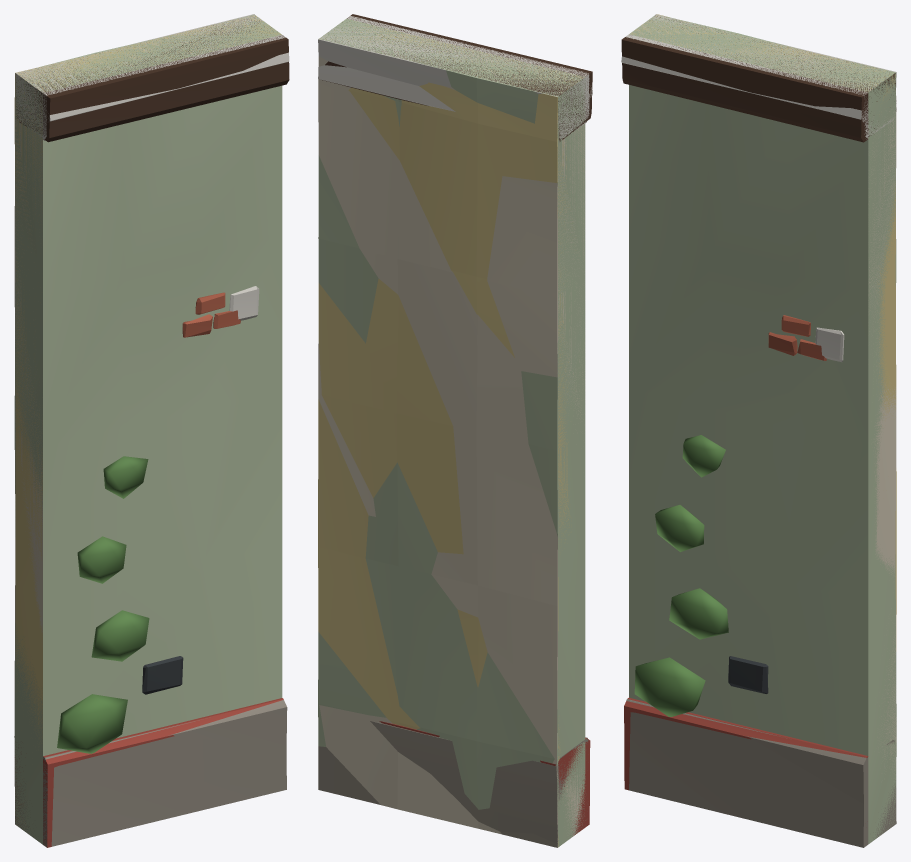
The model's file is wall.plain.glb.
3 views of the same model, side by side, from view 1: azimuth 30°, elevation 25°; view 2: azimuth 150°, elevation 25°; view 3: azimuth 330°, elevation 25° (orthographic).
Visible parts, largest first — view 1: wall.plain.v0.mesh, wall.plain.v1.mesh, wall.plain.v2.mesh; view 2: wall.plain.v2.mesh, wall.plain.v0.mesh, wall.plain.v1.mesh; view 3: wall.plain.v0.mesh, wall.plain.v1.mesh, wall.plain.v2.mesh.
Boxes of the visible parts, x1,y1,x2,y2 form: wall.plain.v0.mesh: (14,14,286,847); wall.plain.v1.mesh: (14,15,289,847); wall.plain.v2.mesh: (14,15,289,846); wall.plain.v2.mesh: (318,17,592,846); wall.plain.v0.mesh: (318,16,589,847); wall.plain.v1.mesh: (318,14,592,847); wall.plain.v0.mesh: (625,14,896,847); wall.plain.v1.mesh: (621,14,896,790); wall.plain.v2.mesh: (621,14,896,823).
Size of the model in its own units: 0.9999 by 3 by 0.2798.
